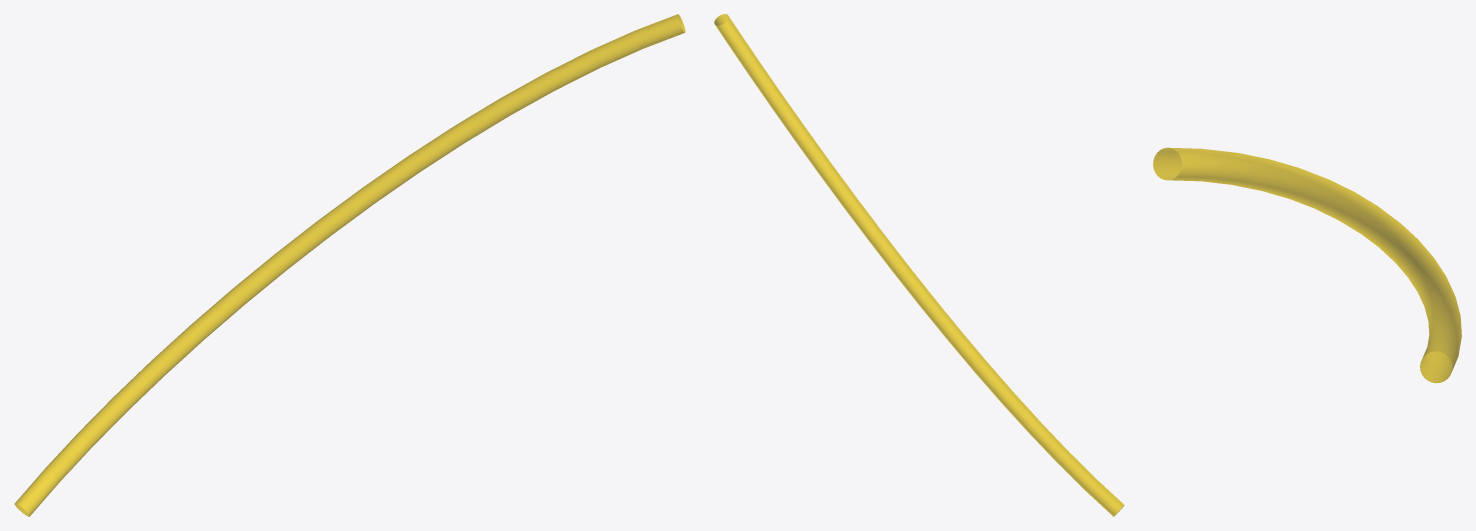
Rendered from Event_15818458_track_57.fbx.
3 renders of one model, left to right at view 1: azimuth 30°, elevation 25°; view 2: azimuth 150°, elevation 25°; view 3: azimuth 270°, elevation 25°, orthographic. The views are drawn at different scales.
Visible parts, largest first — view 1: Model; view 2: Model; view 3: Model.
Boxes of the visible parts, x1,y1,x2,y2 form: Model: (14, 14, 685, 516); Model: (714, 14, 1124, 516); Model: (1153, 147, 1461, 383).
Size of the model in its own units: 1.34 by 0.9224 by 0.3783.
